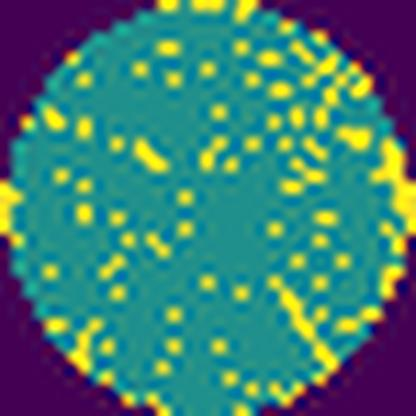Edge-Loc: (365, 131, 416, 241), (0, 171, 23, 254)
